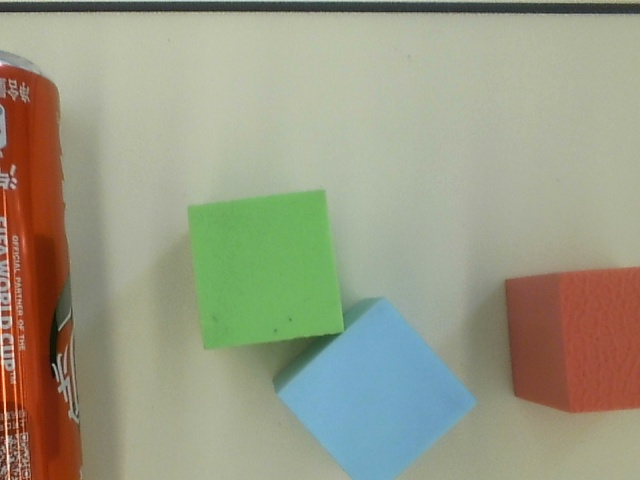bluecube: (268, 299, 481, 480)
cola: (1, 44, 82, 480)
greencube: (179, 189, 347, 348)
redcube: (494, 265, 640, 418)
